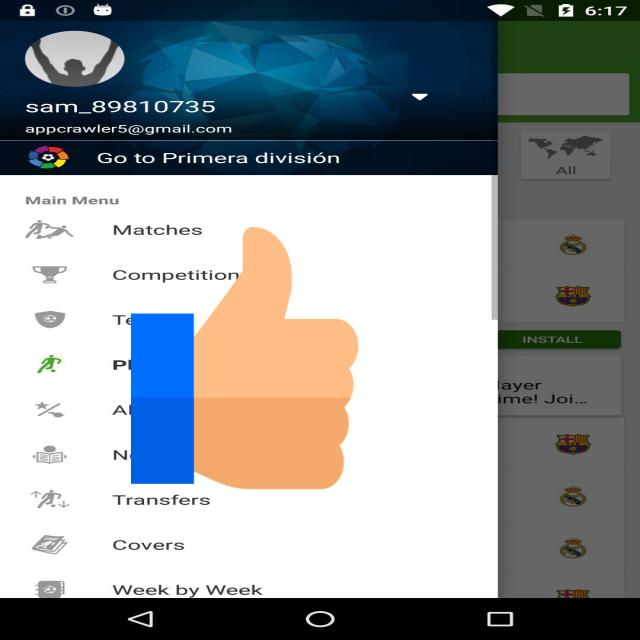privacy zuckering: (131, 220, 358, 496)
